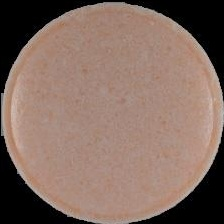68462-388: (0, 0, 224, 224)
